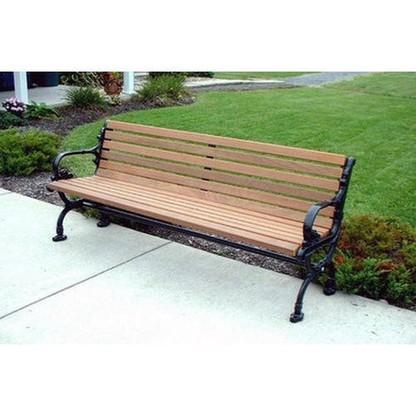obstacle: (32, 113, 370, 325)
